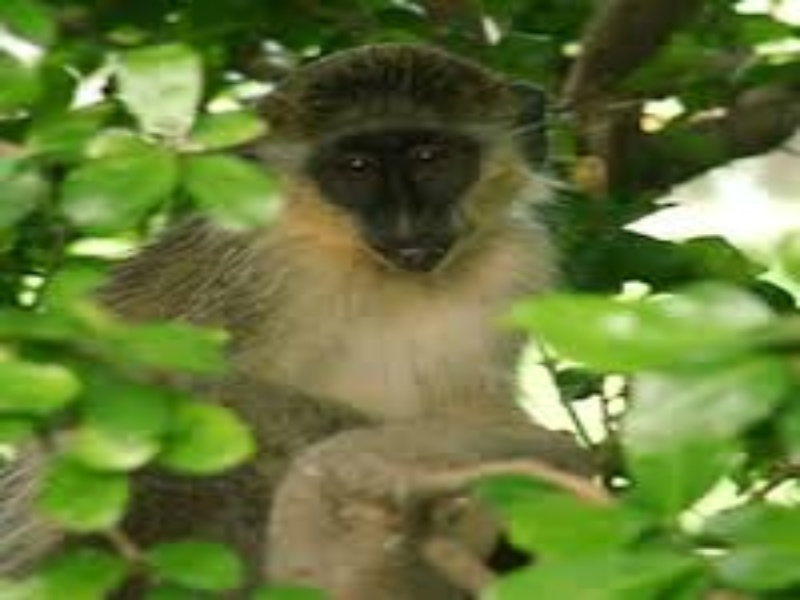monkey: (105, 32, 641, 589)
